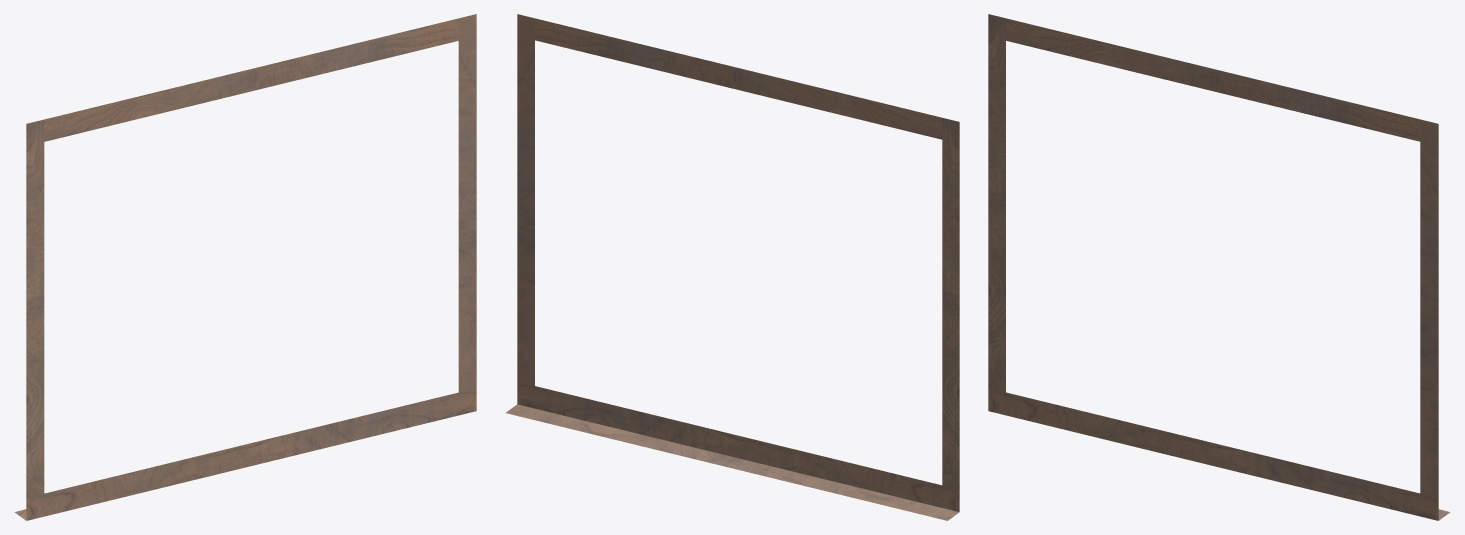
3 views of the same model, side by side, from view 1: azimuth 30°, elevation 25°; view 2: azimuth 150°, elevation 25°; view 3: azimuth 330°, elevation 25° (orthographic).
Visible parts, largest first — view 1: Wall_WIndow_Base; view 2: Wall_WIndow_Base; view 3: Wall_WIndow_Base.
Boxes of the visible parts, x1,y1,x2,y2 form: Wall_WIndow_Base: (14,14,476,520); Wall_WIndow_Base: (506,14,959,520); Wall_WIndow_Base: (988,14,1450,520).
Size of the model in its own units: 76.56 by 64.54 by 3.57.
